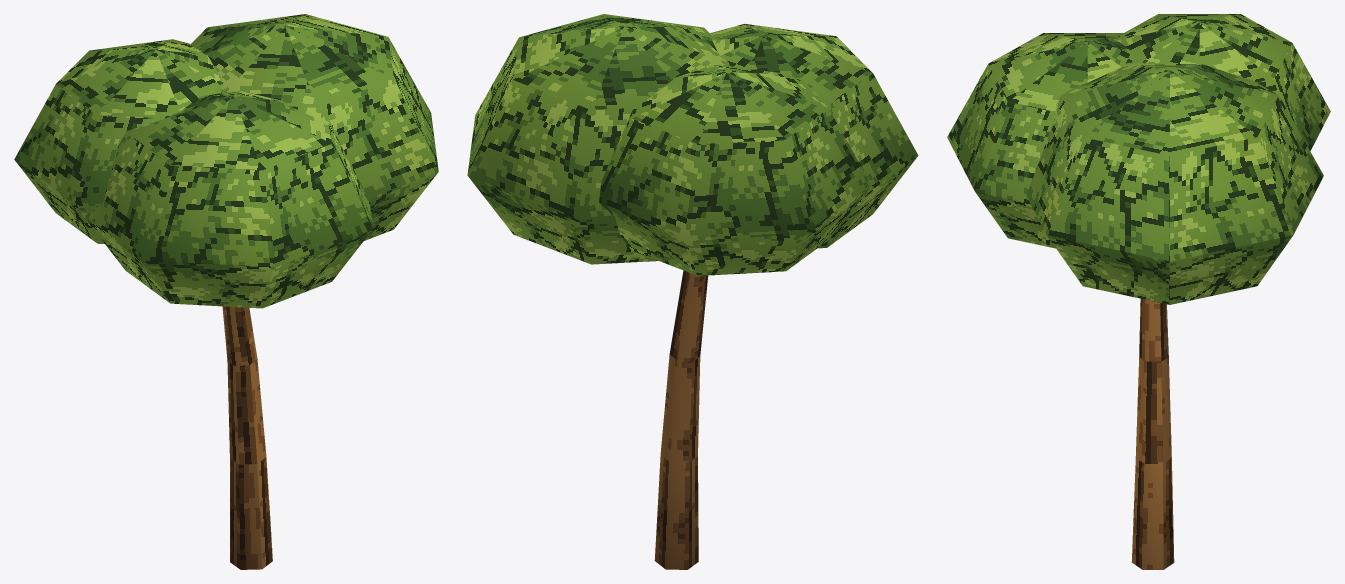
File: nature.tree.glb
3 views of the same model, side by side, from view 1: azimuth 30°, elevation 25°; view 2: azimuth 150°, elevation 25°; view 3: azimuth 270°, elevation 25° (orthographic). The views are drawn at different scales.
Visible parts, largest first — view 1: kit_canopy, kit_trunk; view 2: kit_canopy, kit_trunk; view 3: kit_canopy, kit_trunk.
Part boxes in pixels (x1=…): kit_canopy: x1=14, y1=14, x2=438, y2=308; kit_trunk: x1=222, y1=306, x2=272, y2=569; kit_canopy: x1=467, y1=14, x2=918, y2=275; kit_trunk: x1=654, y1=270, x2=708, y2=569; kit_canopy: x1=947, y1=14, x2=1330, y2=304; kit_trunk: x1=1131, y1=299, x2=1174, y2=569.
Size of the model in its own units: 3.6 by 4.8 by 3.25.
Materials: 2 (2 with a texture image).
